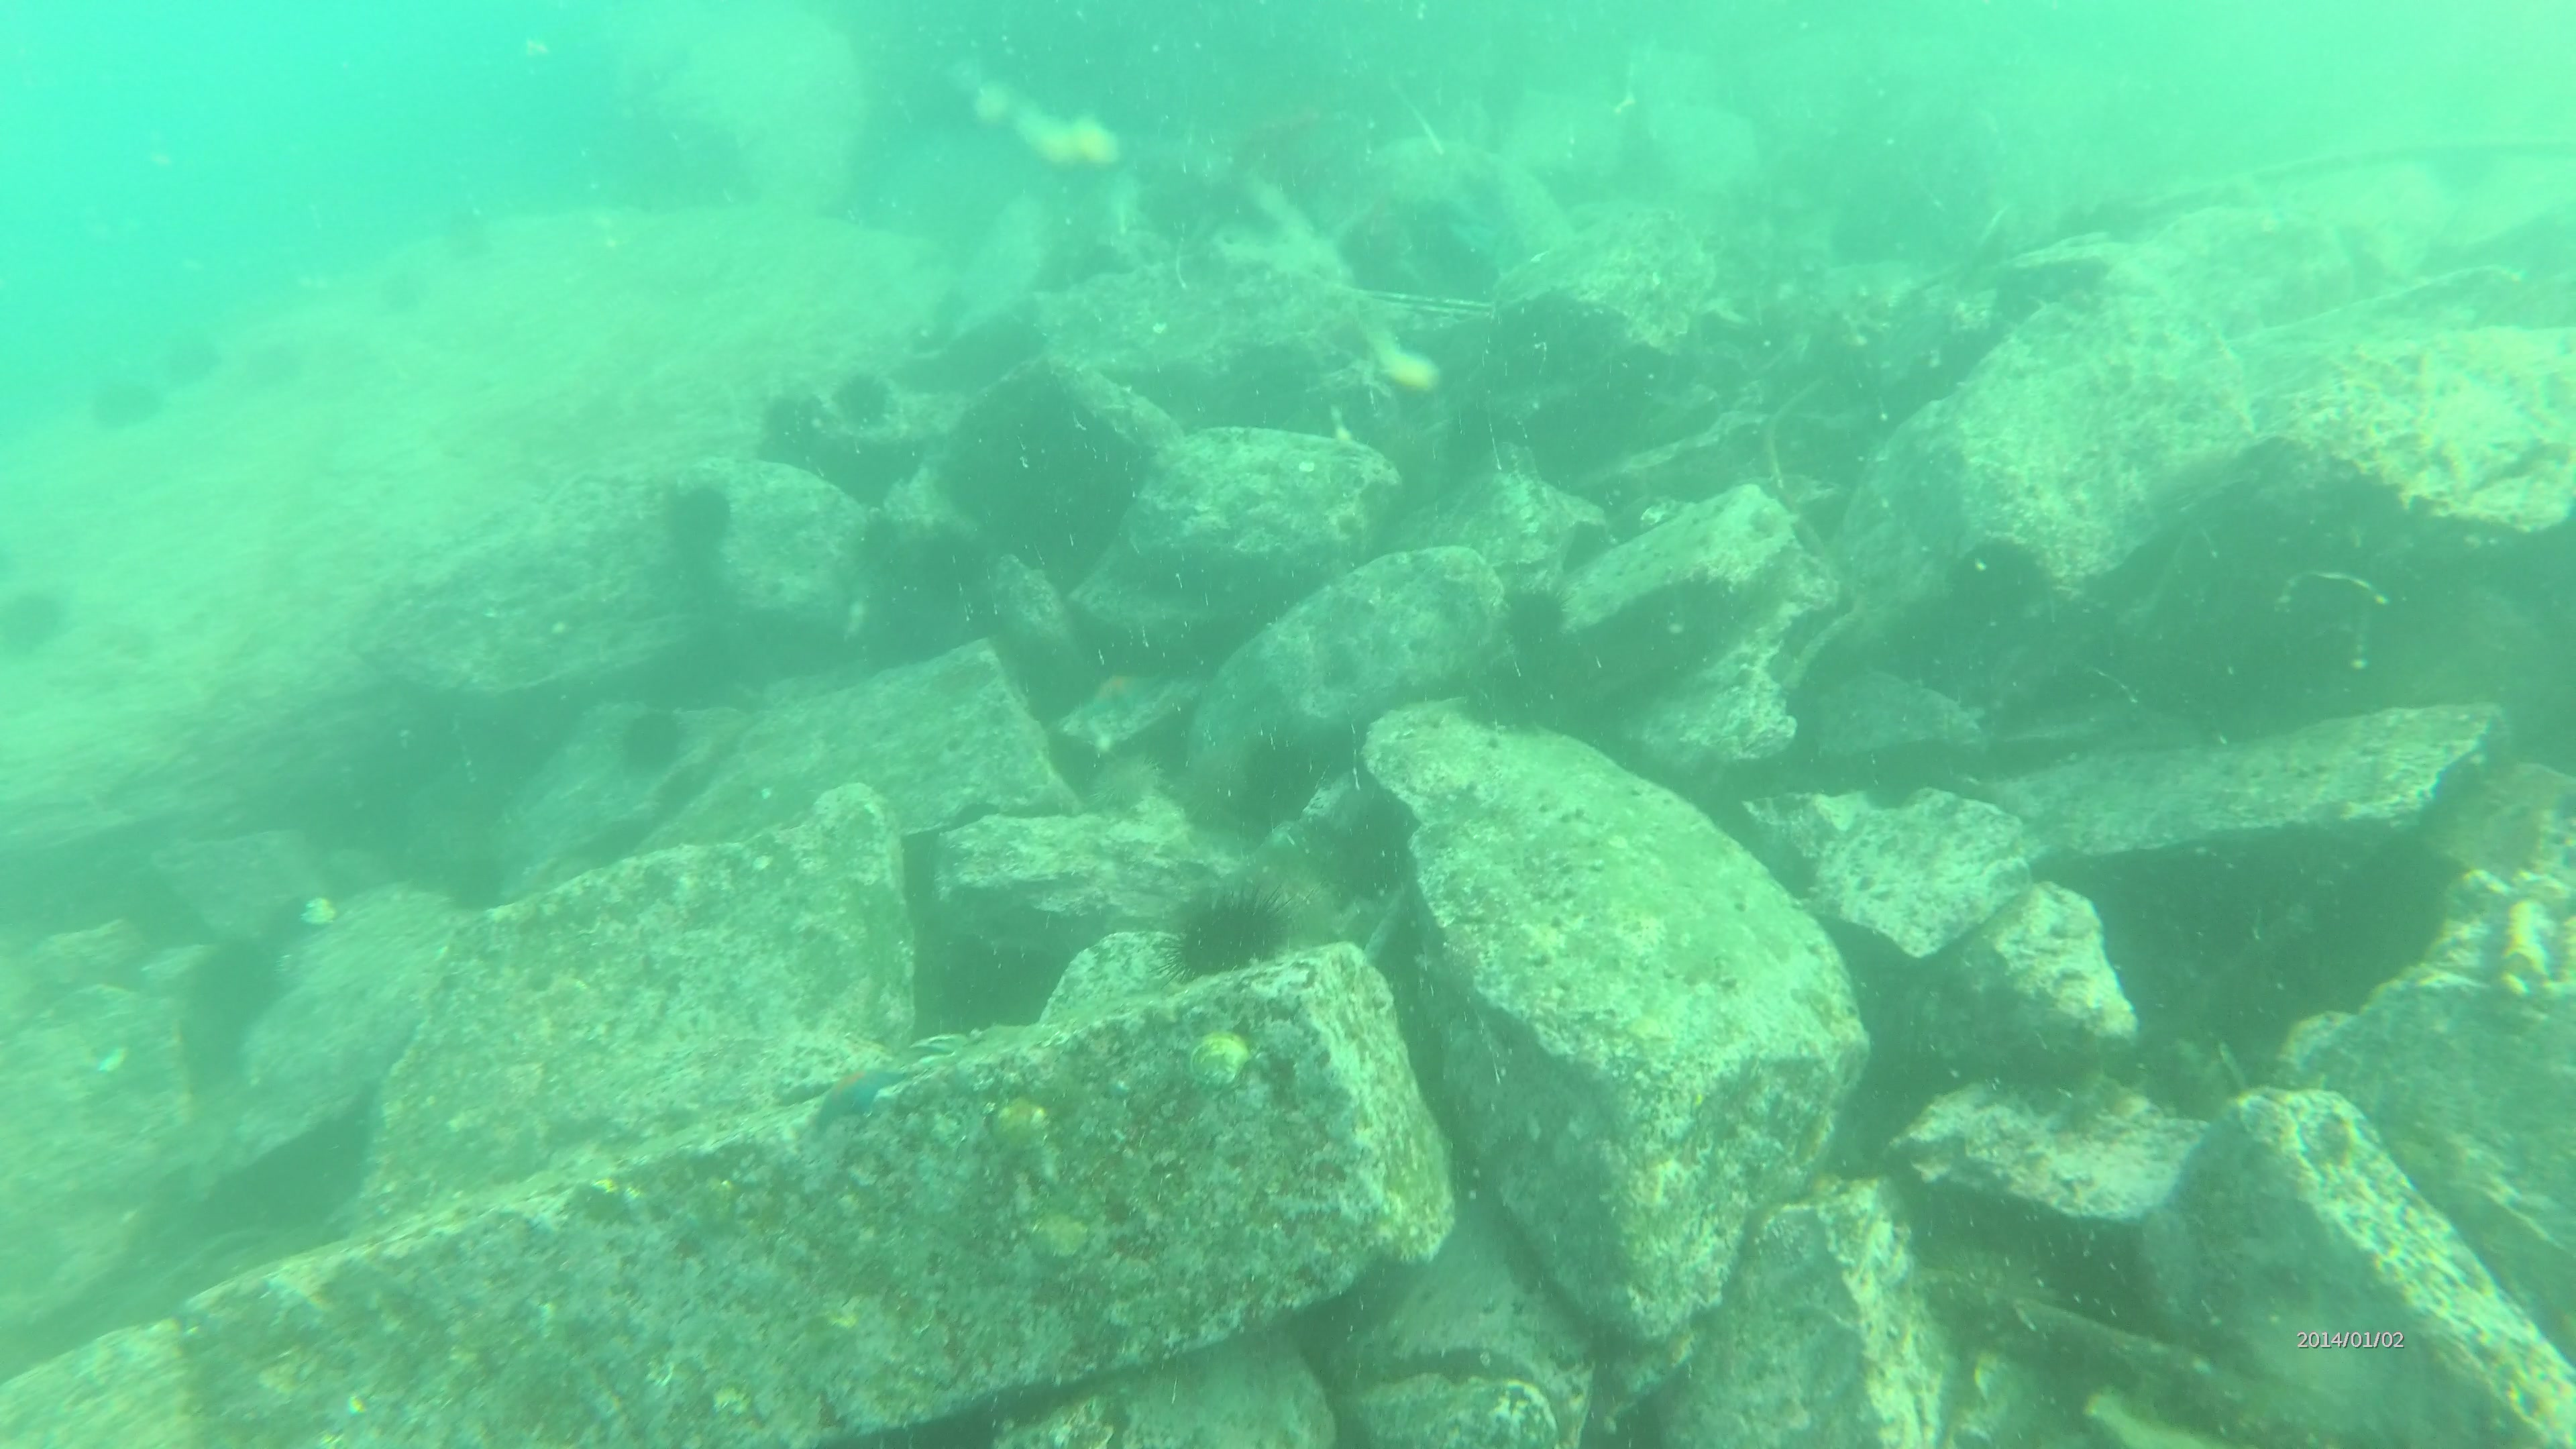echinus: (1157, 893, 1304, 998), (747, 389, 839, 471), (826, 356, 904, 444), (616, 699, 702, 770), (671, 483, 738, 570), (0, 582, 67, 665), (237, 338, 311, 403), (90, 375, 161, 441), (428, 202, 504, 258), (377, 258, 444, 311), (152, 329, 218, 379)
scallop: (980, 1085, 1056, 1161), (1182, 1024, 1253, 1093)
starfish: (810, 1063, 913, 1139)
